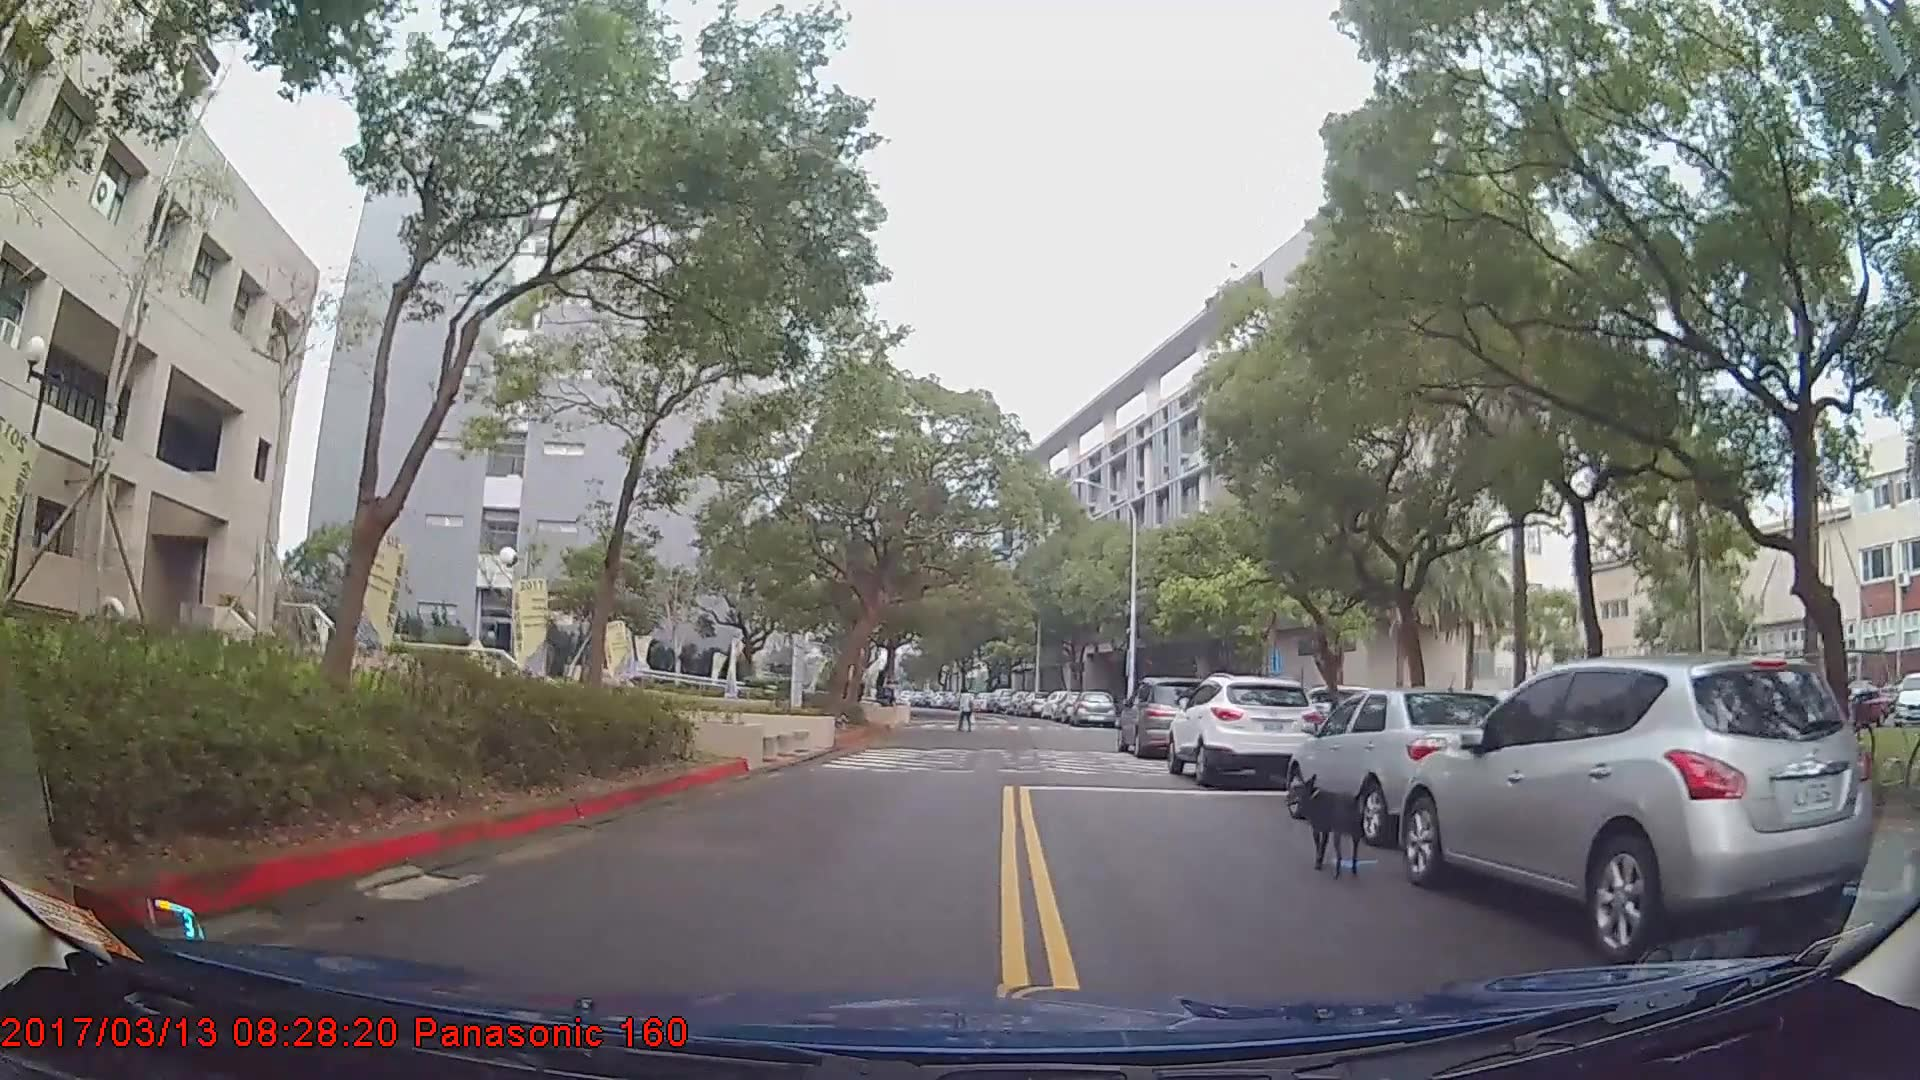pedestrian: (956, 688, 978, 734)
vehicle: (1395, 651, 1883, 953), (1287, 687, 1527, 844), (1167, 670, 1323, 784), (1114, 673, 1225, 754), (1070, 687, 1118, 728), (1894, 670, 1920, 721), (984, 687, 1013, 714)
